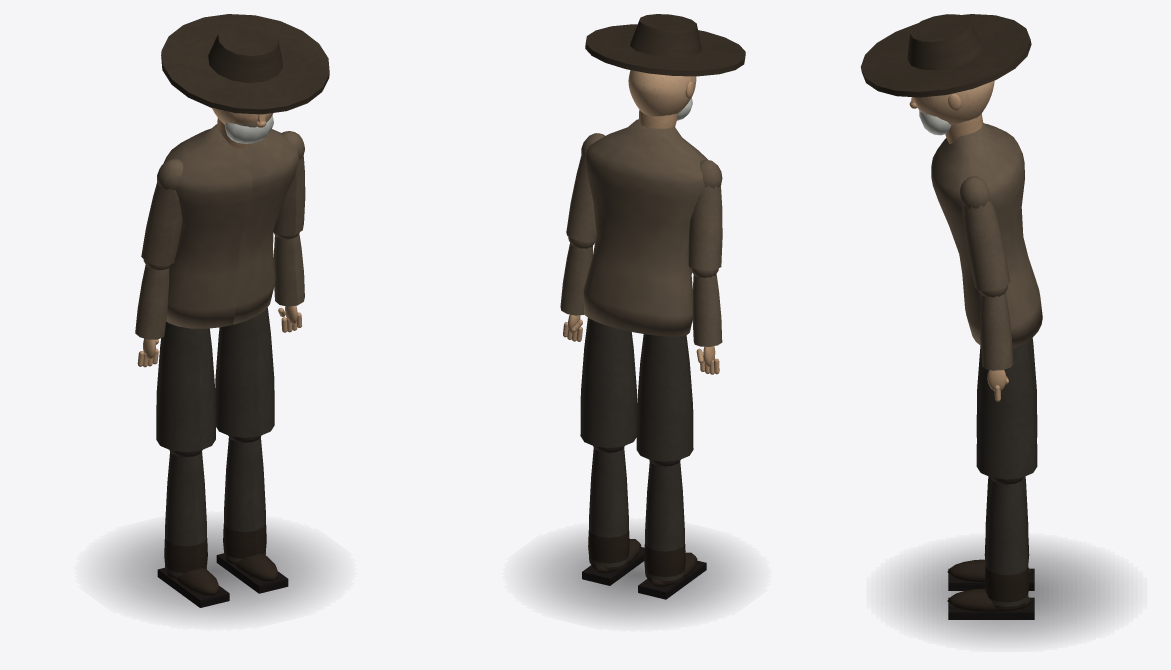
The model's file is npc_tobias.glb.
3 renders of one model, left to right at view 1: azimuth 30°, elevation 25°; view 2: azimuth 150°, elevation 25°; view 3: azimuth 270°, elevation 25°, orthographic. The views are drawn at different scales.
Visible parts, largest first — view 1: chest, head, object 11, legL, legR, shinL, shinR, armL, foreL, foreR, armR; view 2: chest, object 11, head, legL, legR, shinL, shinR, armL, foreL, foreR, armR; view 3: head, object 11, chest, shinR, legR, armR, foreR, shinL.
Boxes of the visible parts, x1,y1,x2,y2 form: chest: (163,118,299,328); head: (161,14,329,143); object 11: (102,523,328,618); legL: (156,321,215,451); legR: (215,307,274,437); shinL: (157,450,229,607); shinR: (216,435,288,593); armL: (141,159,183,266); foreL: (135,259,170,367); foreR: (273,232,304,332); armR: (273,131,305,235); chest: (583,110,707,336); object 11: (529,529,744,619); head: (585,14,745,120); legL: (636,334,693,461); legR: (580,318,636,447); shinL: (638,459,706,599); shinR: (582,446,644,585); armL: (688,160,722,269); foreL: (690,268,722,374); foreR: (560,236,595,341); armR: (566,133,604,241); head: (861,14,1031,135); object 11: (894,545,1119,640); chest: (931,113,1042,348); shinR: (947,477,1034,619); legR: (976,340,1037,479); armR: (960,176,1010,291); foreR: (979,285,1013,401); shinL: (947,476,1034,590).
Size of the model in its own units: 0.868 by 1.84 by 0.868.
5 materials, 4 textured.
